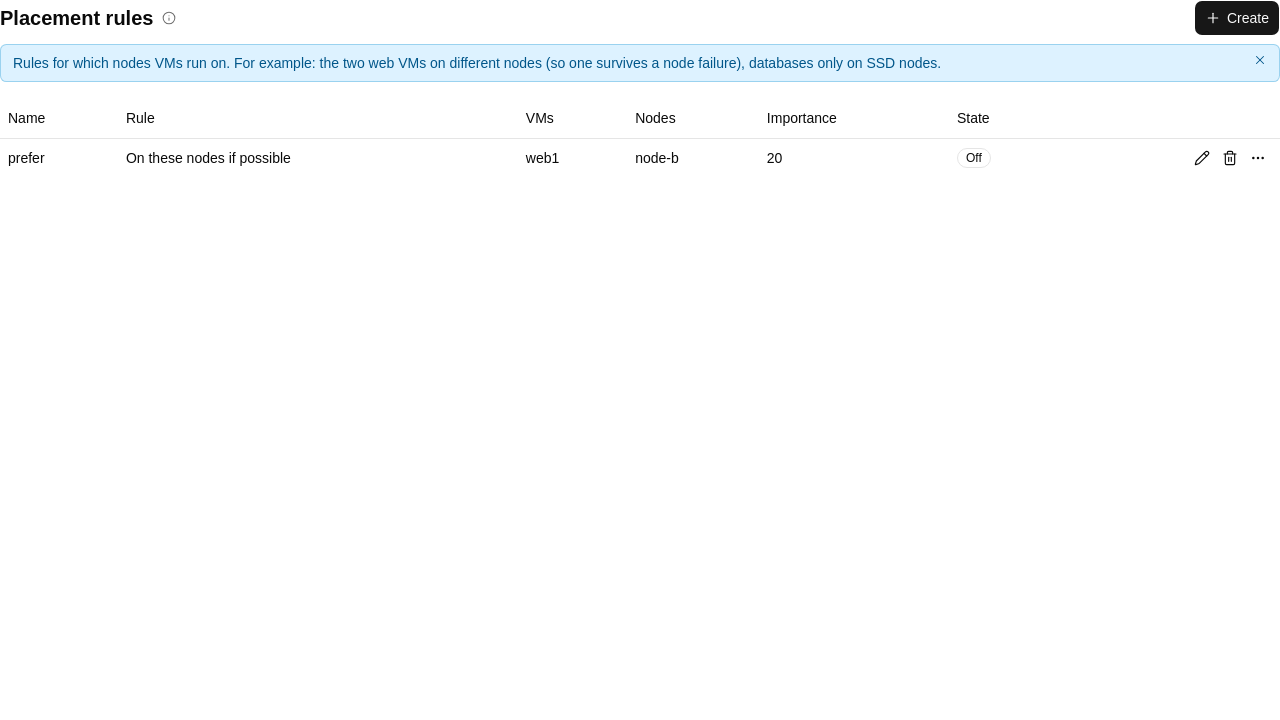
Test: turns a soft rule back on and changes its weight
The image size is (1280, 720).
Click the button named "Edit placement rule prefer" at point(1202, 158), box [1188,144,1216,172]
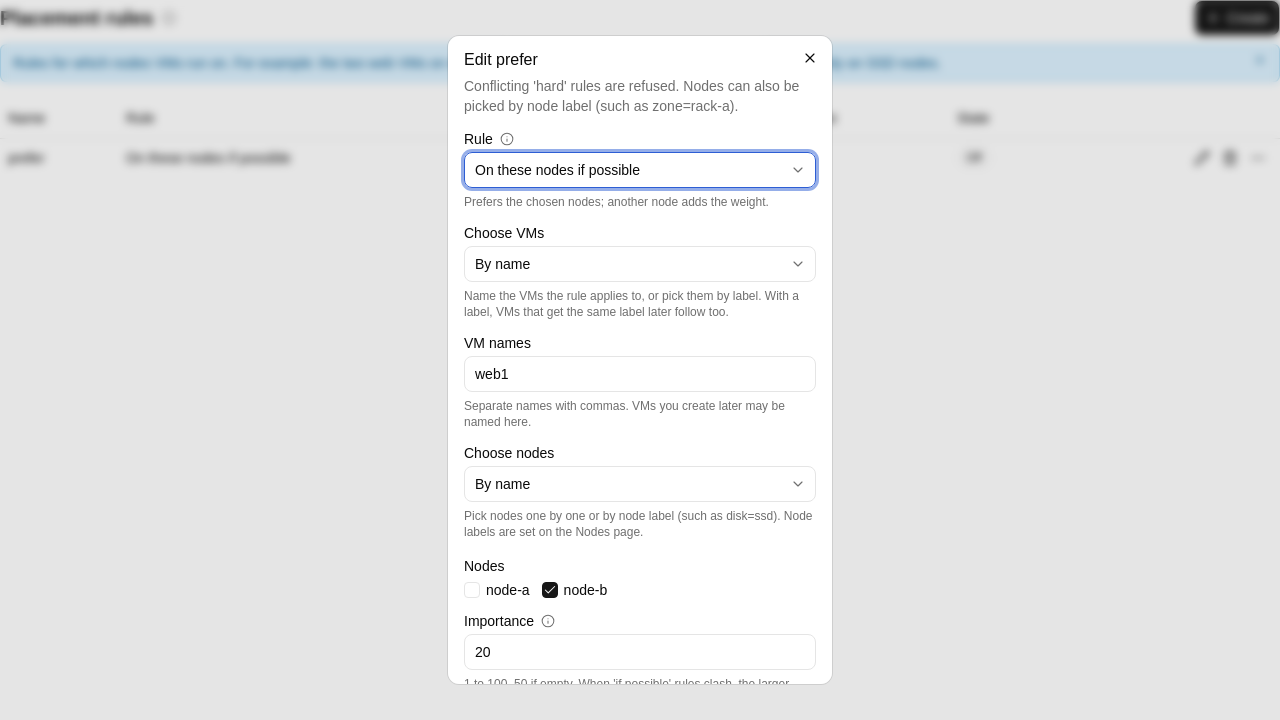
Result: the 2nd checkbox named "node-b" is checked at [542,582,558,598]
Replace the text in the field labelled "Importance" with "101" at point(640, 652), box [464,634,816,670]
(page scrolled)
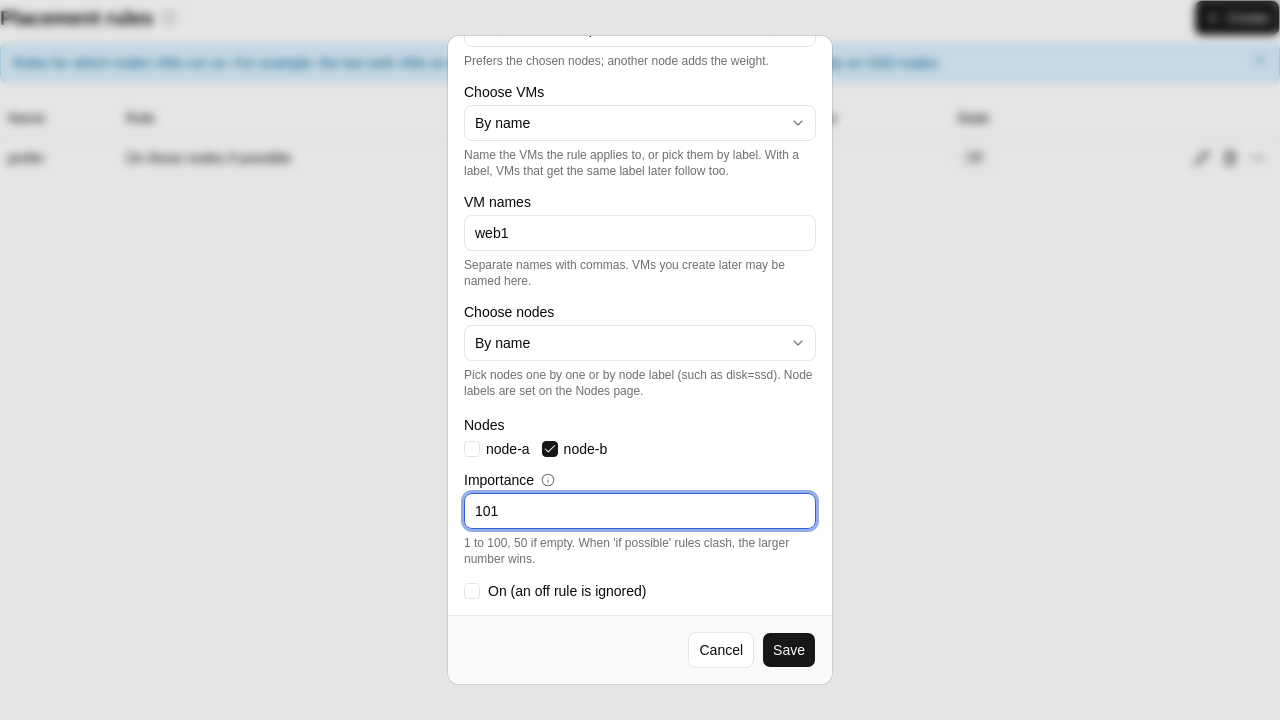
Click the checkbox named "On (an off rule is ignored)" next to "On (an off rule is ignored)" at point(472, 591), box [464,583,480,599]
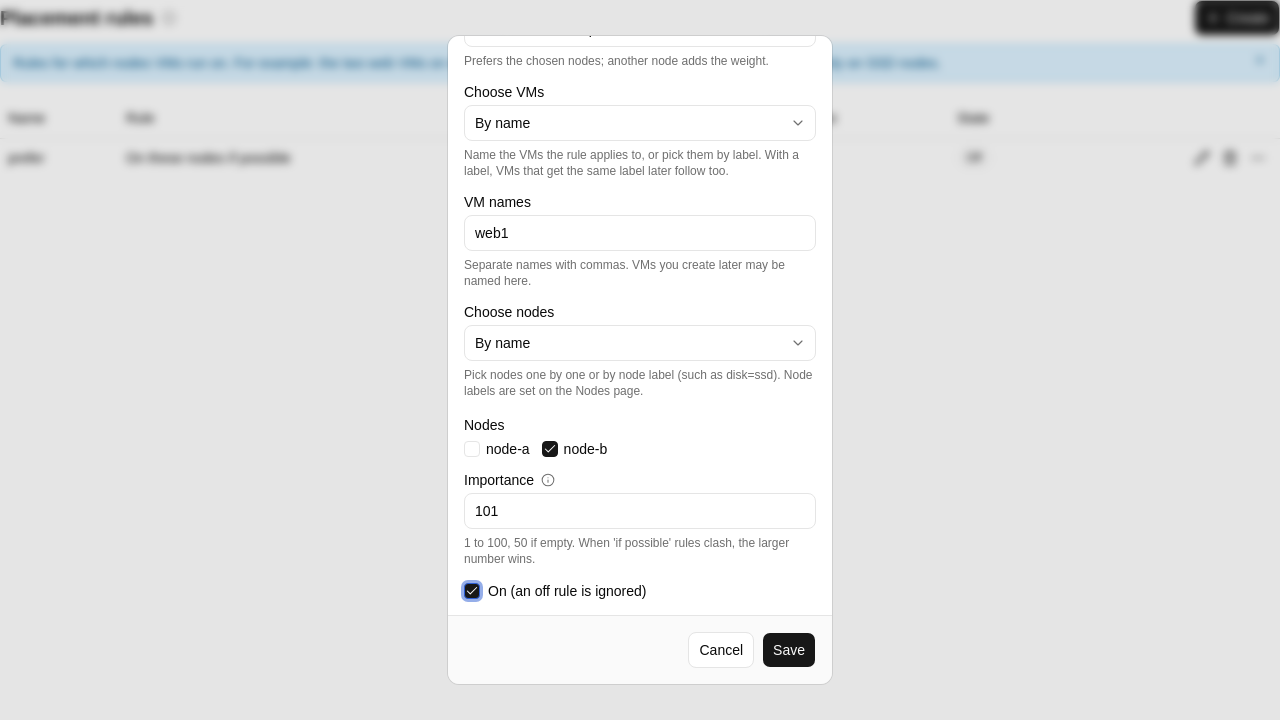
Click the button "Save" at point(789, 650), box [762,632,816,668]
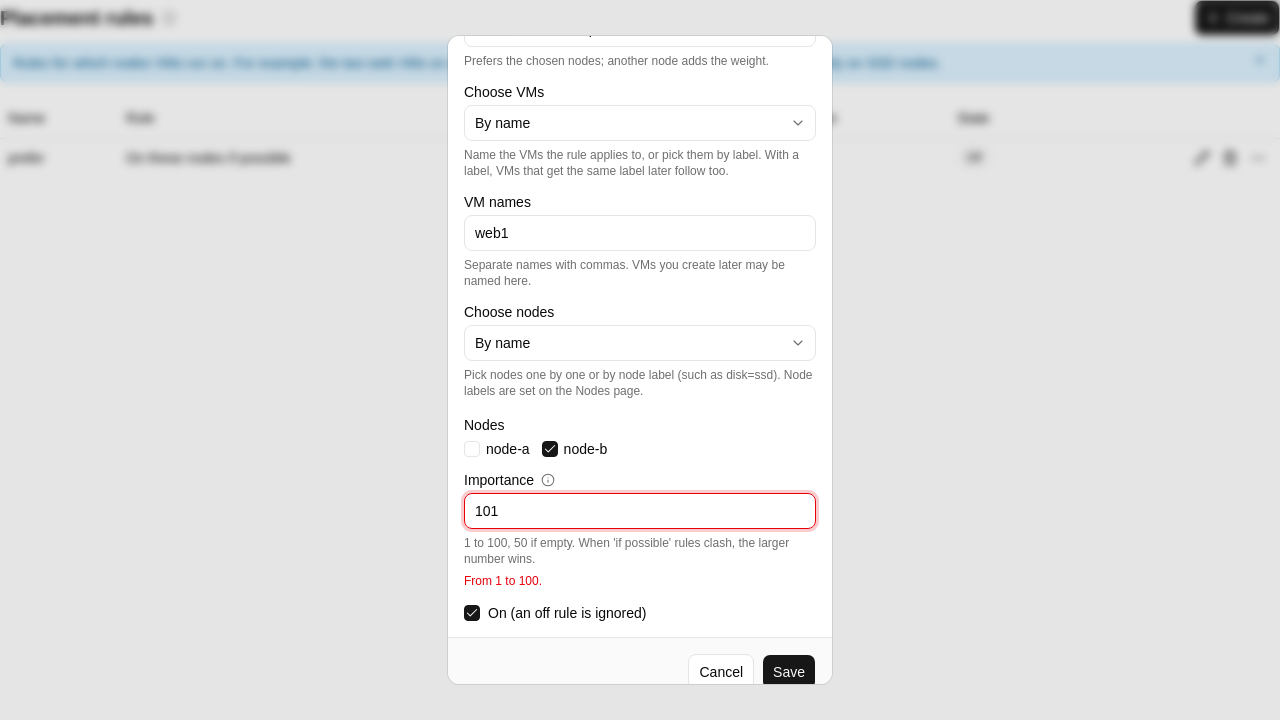
Result: the text "From 1 to 100." is shown at [464,574,542,588]
Replace the text in the field labelled "Importance" with "80" at point(640, 511), box [464,493,816,529]
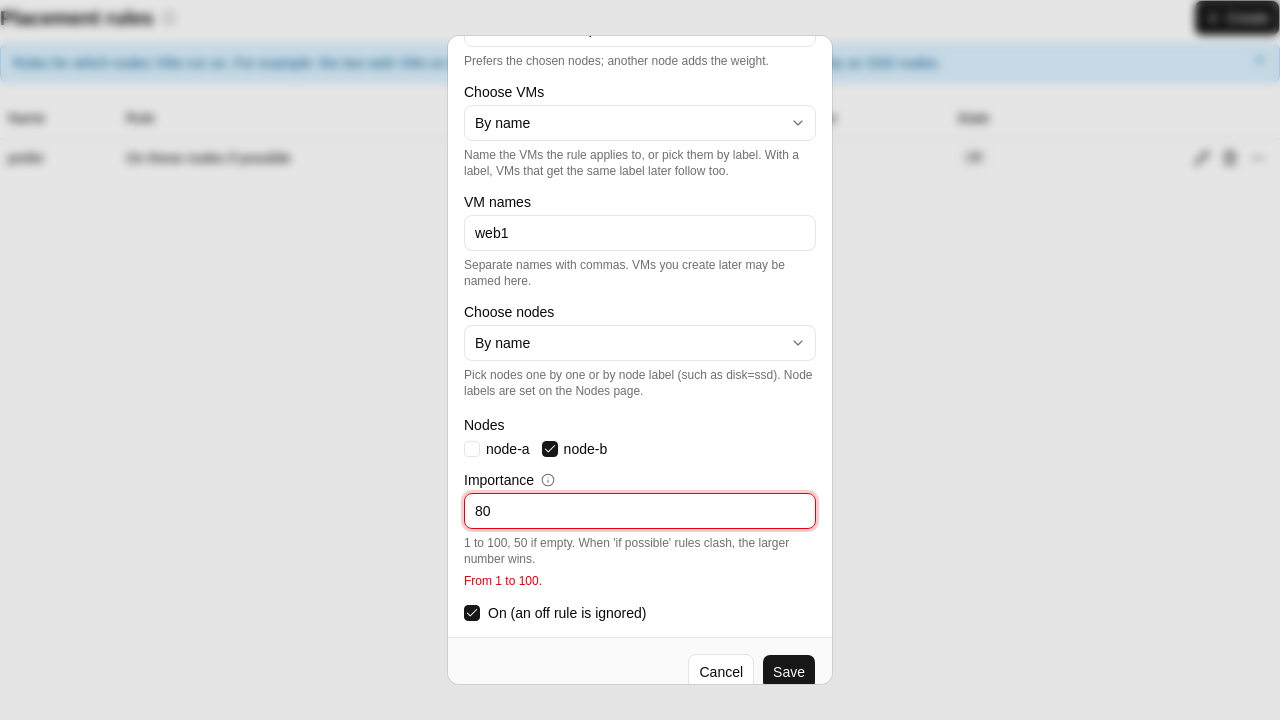
Click the button "Save" at point(789, 672), box [762,654,816,690]
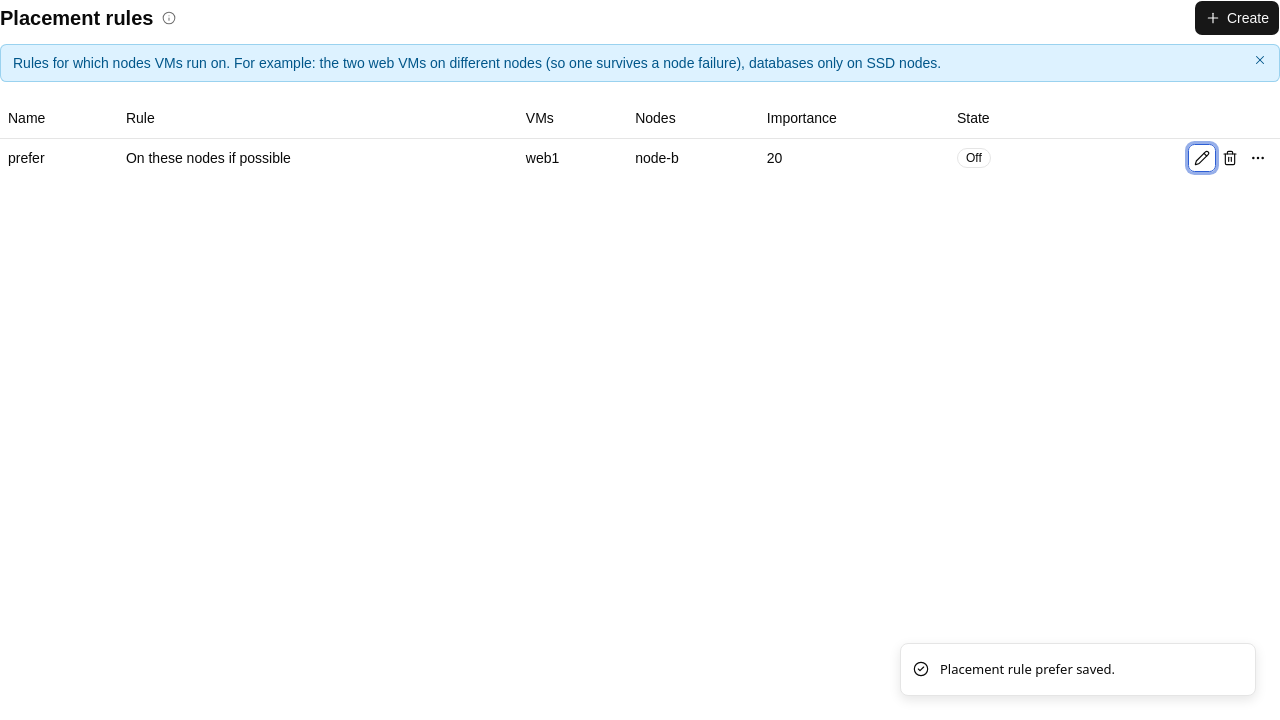
Result: the text "Placement rule prefer saved." is shown at [940,660,1115,679]
